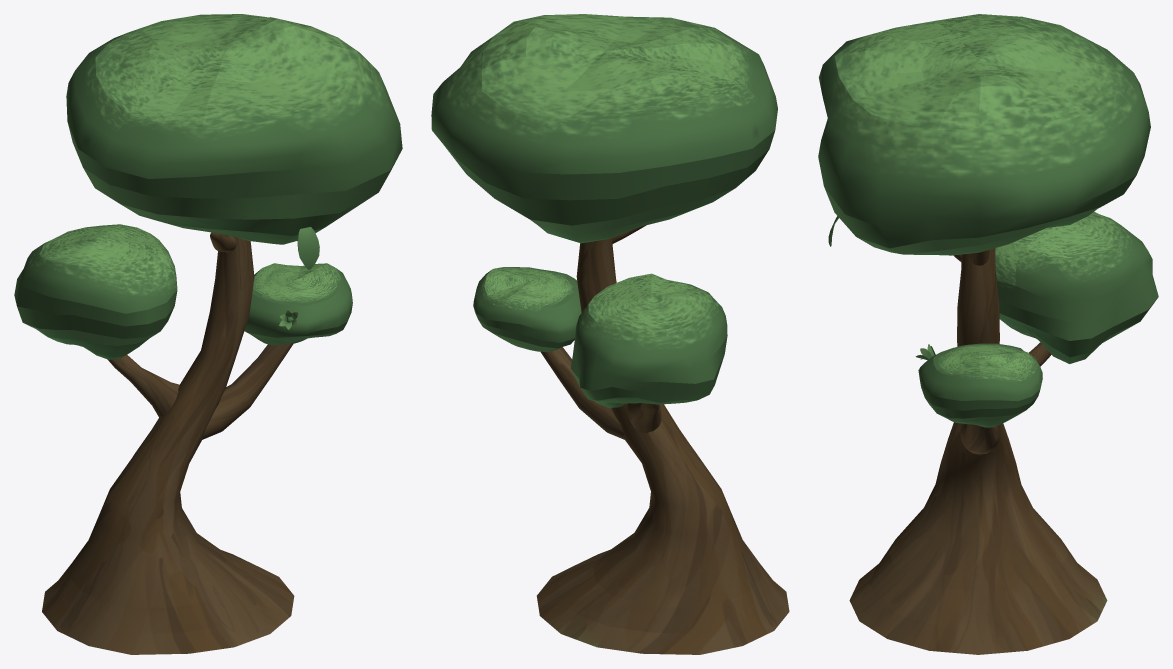
File: mediumTreeFixed.fbx
The picture shows the model from 3 angles, left to right: view 1: azimuth 30°, elevation 25°; view 2: azimuth 150°, elevation 25°; view 3: azimuth 270°, elevation 25°; orthographic projection. The views are drawn at different scales.
Visible parts, largest first — view 1: polySurface351; view 2: polySurface351; view 3: polySurface351.
Part boxes in pixels (x1,y1,x2,y2): polySurface351: (14,14,402,654); polySurface351: (431,14,789,654); polySurface351: (818,14,1158,654).
Bounding box in the file's own units: 14.42 × 23.8 × 12.75.
Materials: 1 (1 with a texture image).
